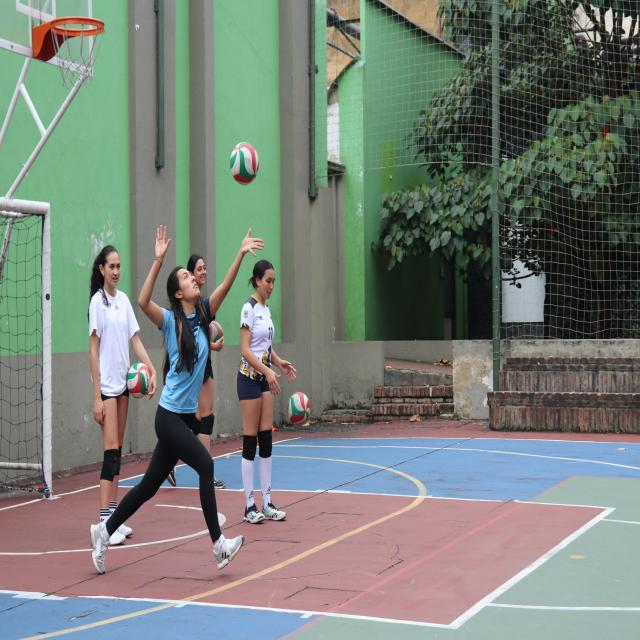volleyball: (230, 140, 259, 187), (126, 362, 152, 400), (287, 391, 310, 427), (208, 322, 224, 344)
